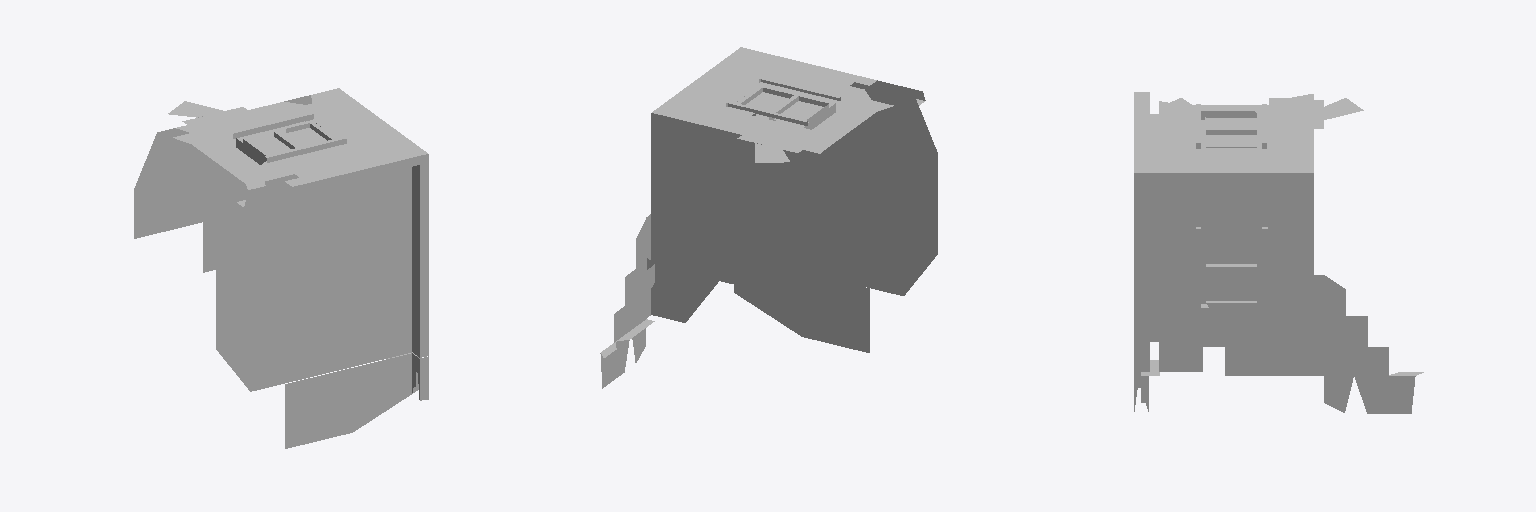
File: Destory4.obj
3 renders of one model, left to right at view 1: azimuth 30°, elevation 25°; view 2: azimuth 150°, elevation 25°; view 3: azimuth 270°, elevation 25°, orthographic.
Parts seen in each view (by area): view 1: Destory4; view 2: Destory4; view 3: Destory4.
Boxes of the visible parts, <box> form: Destory4: <box>134,88,428,448</box>; Destory4: <box>600,47,937,388</box>; Destory4: <box>1134,92,1423,413</box>.
Size of the model in its own units: 4.72 by 5.88 by 5.69.